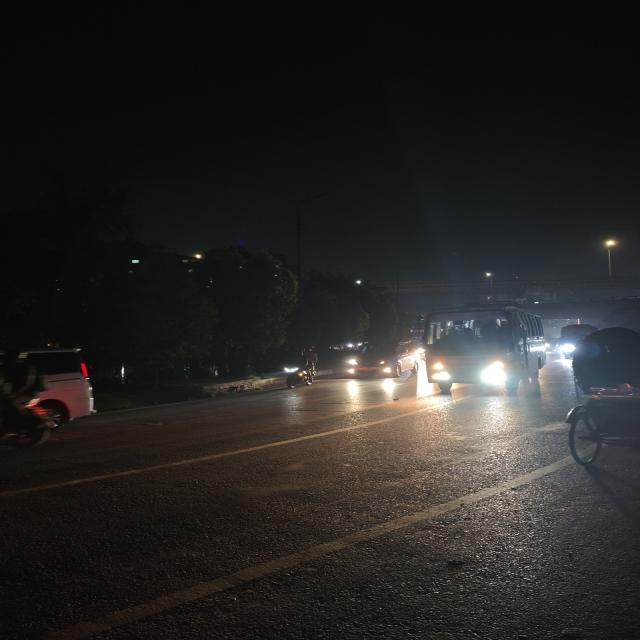bicycle: (279, 344, 322, 391)
bus: (416, 302, 551, 394)
car: (342, 341, 415, 380)
motorcycle: (278, 344, 323, 391)
rickshaw: (570, 330, 640, 475)
truck: (4, 346, 104, 440)
